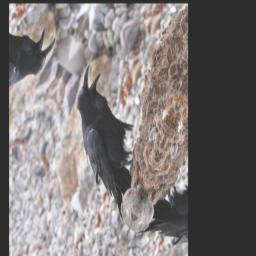Crow: (49, 63, 162, 222)
